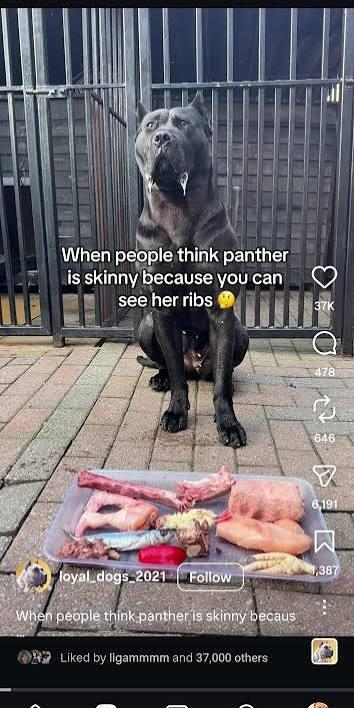adult_dog: (125, 88, 248, 448)
